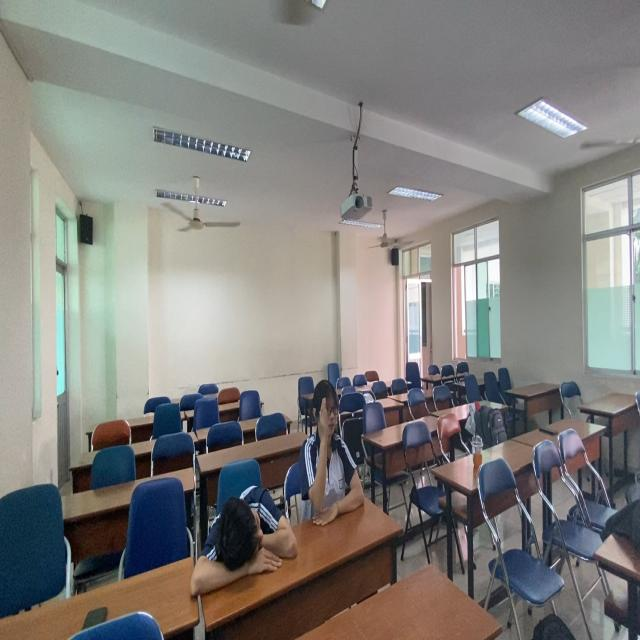raise_hand: (304, 375, 370, 531)
sleep: (191, 477, 301, 579)
